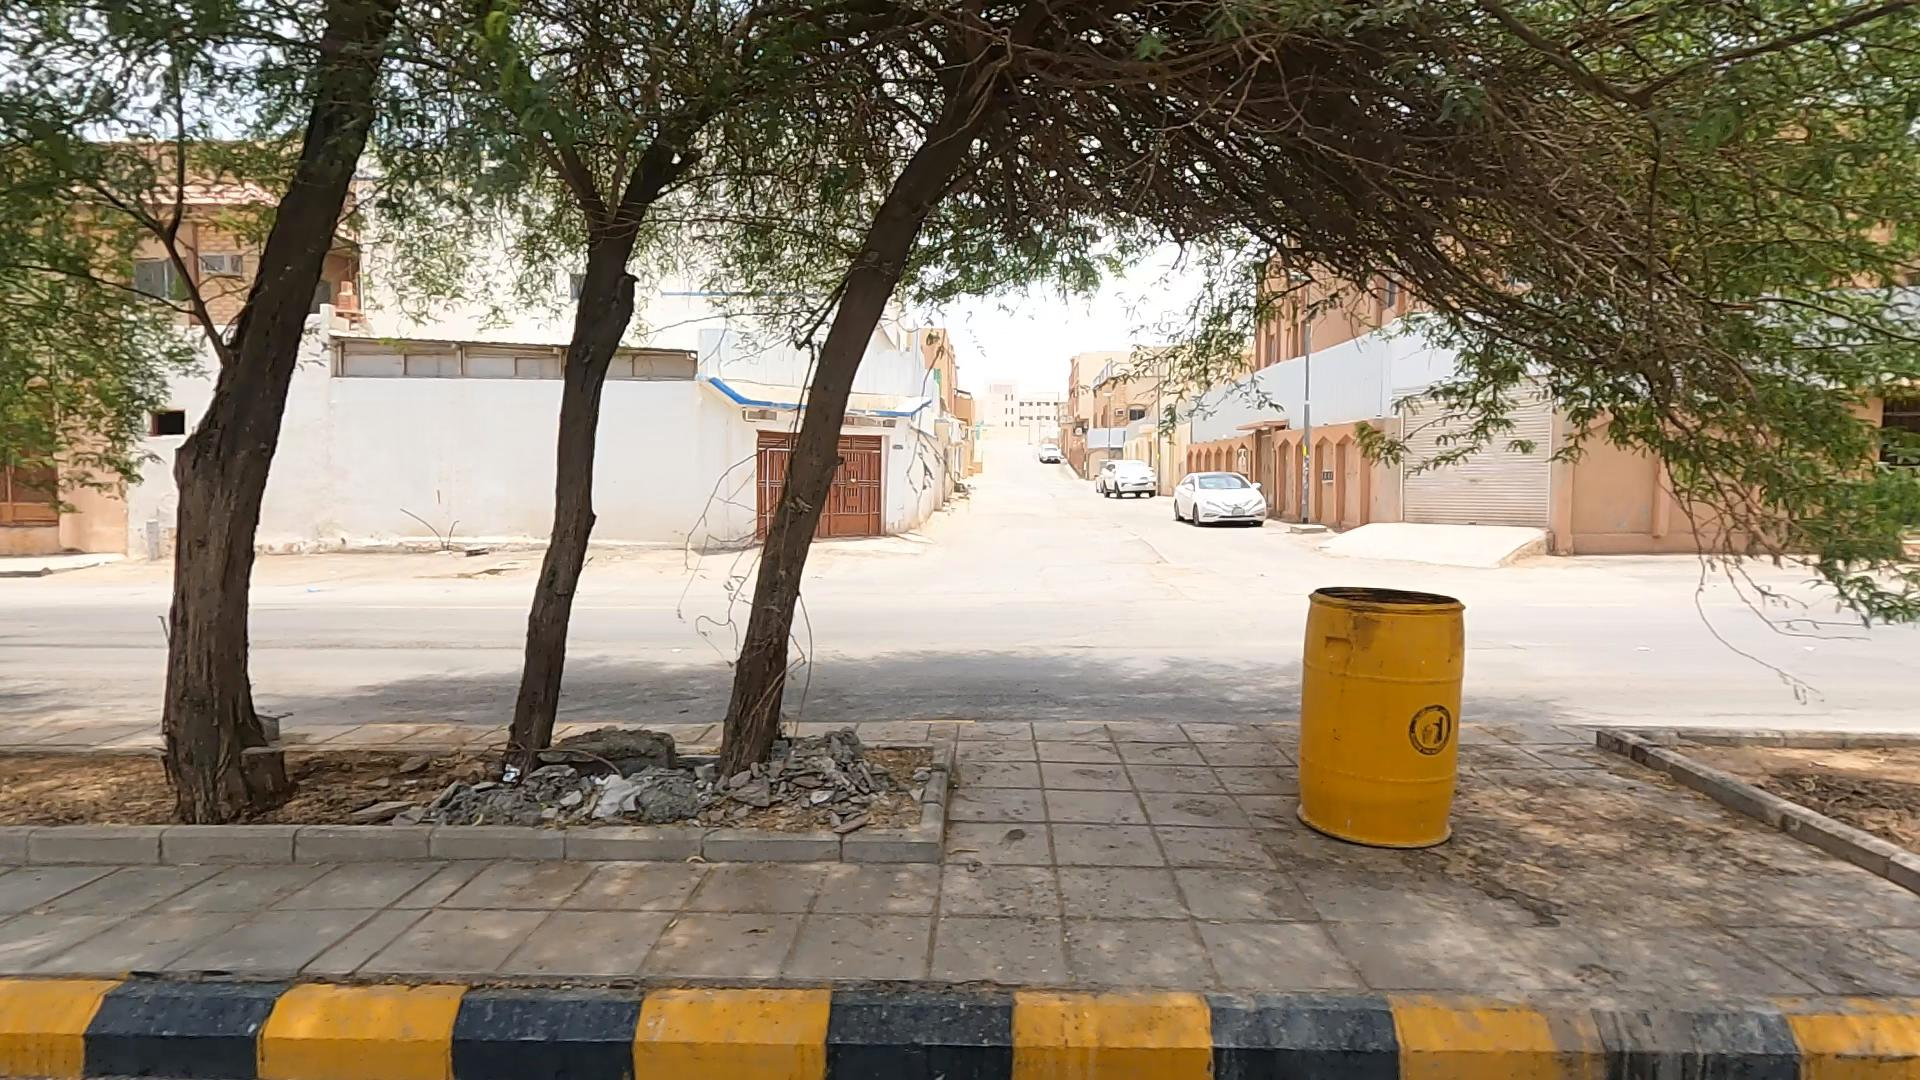CONSTRUCTION_ROAD: (20, 613, 1669, 1080)
